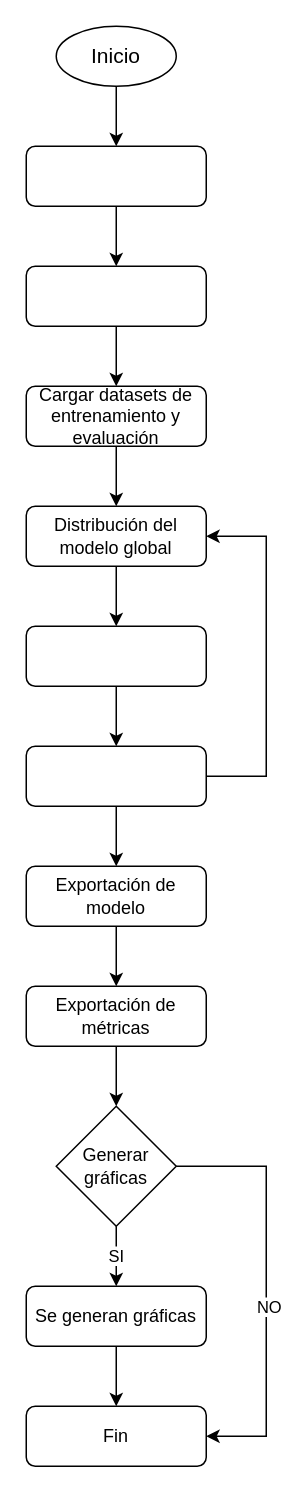
The diagram is 308 pixels wide and 1493 high, and some of its shapes have lost their labels. The box of each missing label's shape, as (x1, y1, x2, y2) in pixels:
Cargar configuración base del modelo: (25, 265, 206, 326)
Modelo global a partir de modelos locales: (25, 745, 206, 806)
Recopilación de métricas: (25, 625, 206, 686)
Selección tipo de nodo federado: (25, 145, 206, 206)
